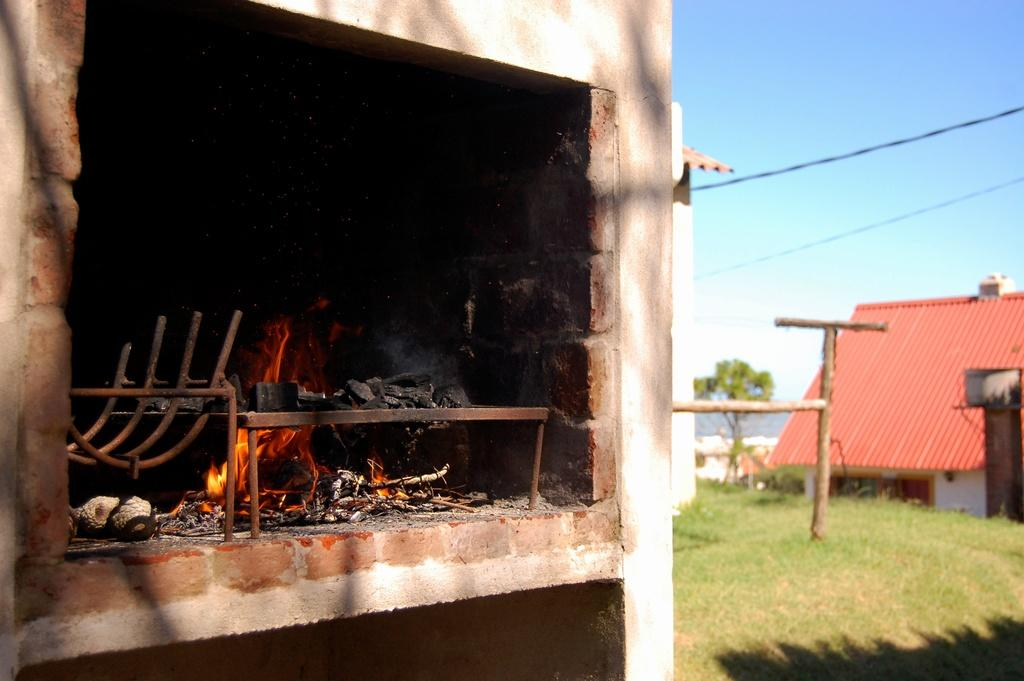fire: (184, 321, 319, 520)
